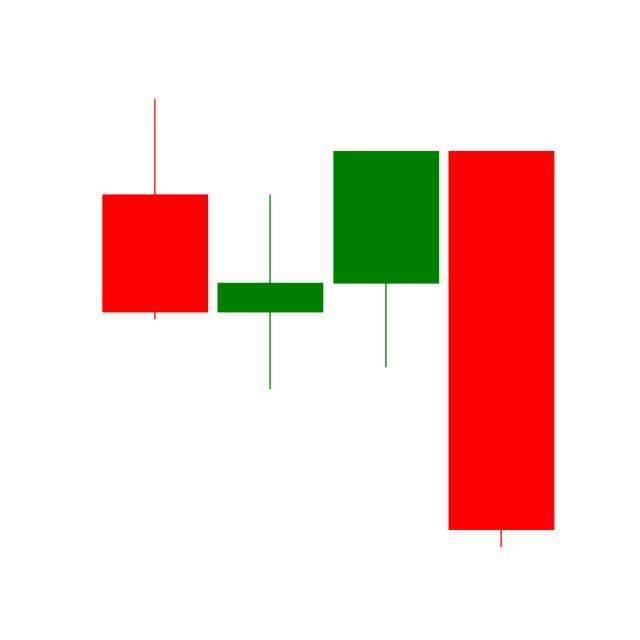Marubozu: (444, 147, 560, 552)
